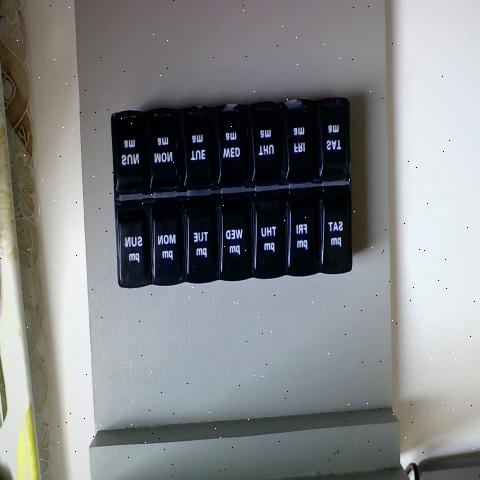FRI-am: (285, 98, 315, 180)
FRI-pm: (289, 188, 321, 273)
MON-am: (150, 106, 179, 191)
MON-pm: (152, 204, 185, 284)
PillBox: (102, 77, 364, 312)
SAT-am: (316, 99, 347, 185)
SAT-pm: (322, 188, 351, 268)
SUN-am: (115, 110, 147, 193)
SUN-pm: (120, 204, 148, 282)
THU-am: (253, 103, 286, 187)
THU-pm: (255, 192, 286, 274)
TUE-am: (182, 106, 214, 190)
TUE-pm: (189, 203, 218, 283)
WED-am: (214, 104, 248, 186)
WED-pm: (219, 196, 255, 280)
